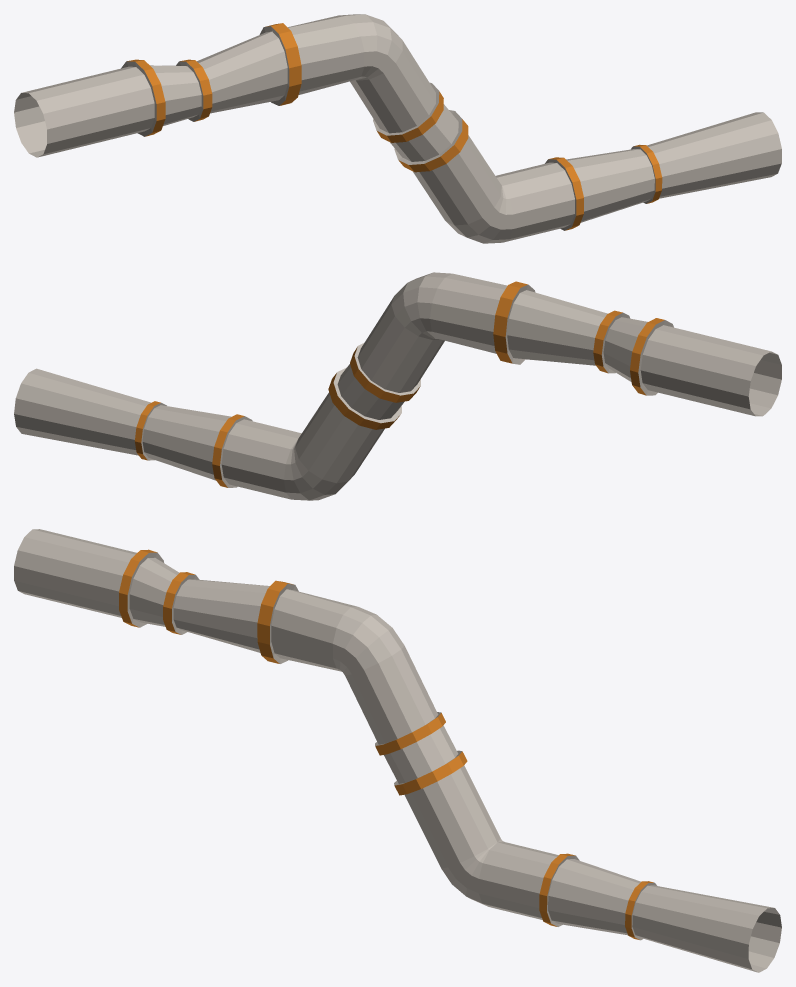
File: WeirdPipe1.fbx
3 views of the same model, one above another, from view 1: azimuth 30°, elevation 25°; view 2: azimuth 150°, elevation 25°; view 3: azimuth 330°, elevation 25° (orthographic).
Visible parts, largest first — view 1: Cylinder; view 2: Cylinder; view 3: Cylinder.
Part boxes in pixels (x1,y1,x2,y2): Cylinder: (14, 14, 781, 243); Cylinder: (14, 272, 781, 500); Cylinder: (14, 529, 781, 972).
Size of the model in its own units: 25.23 by 2.39 by 8.83.
